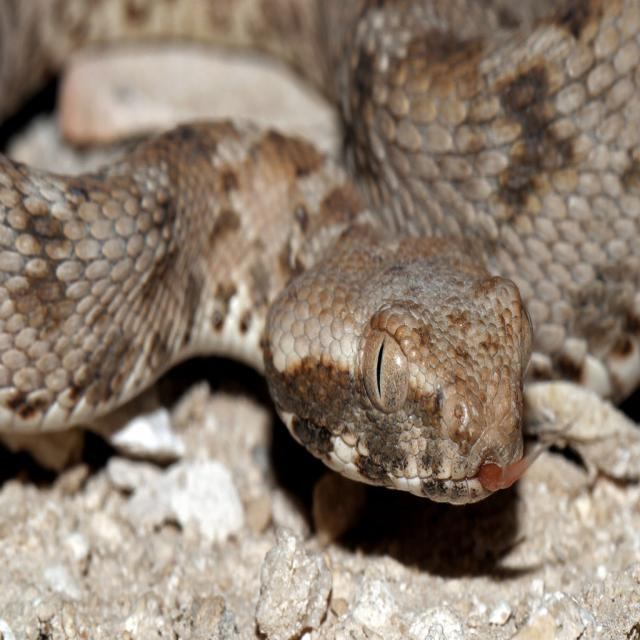Snake: (1, 0, 638, 508)
